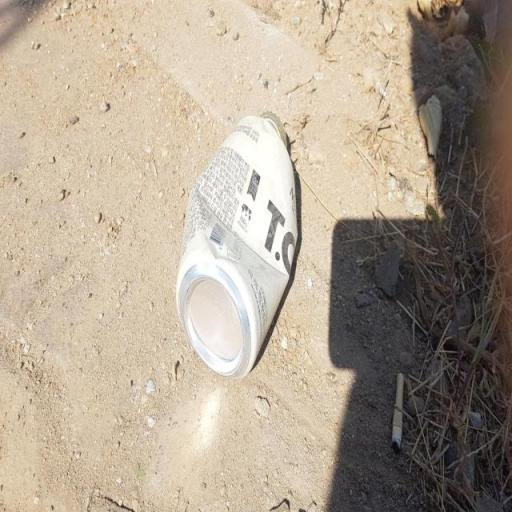metal: (166, 98, 300, 407)
